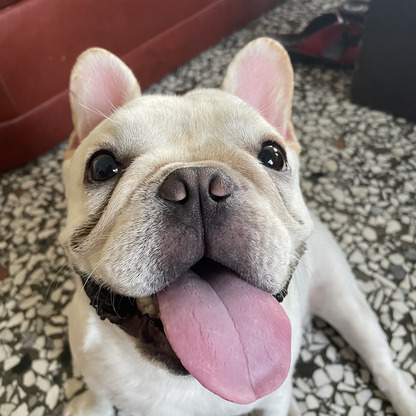bulldog: (51, 35, 416, 414)
